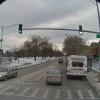Crosswalk: (8, 75, 100, 100)
